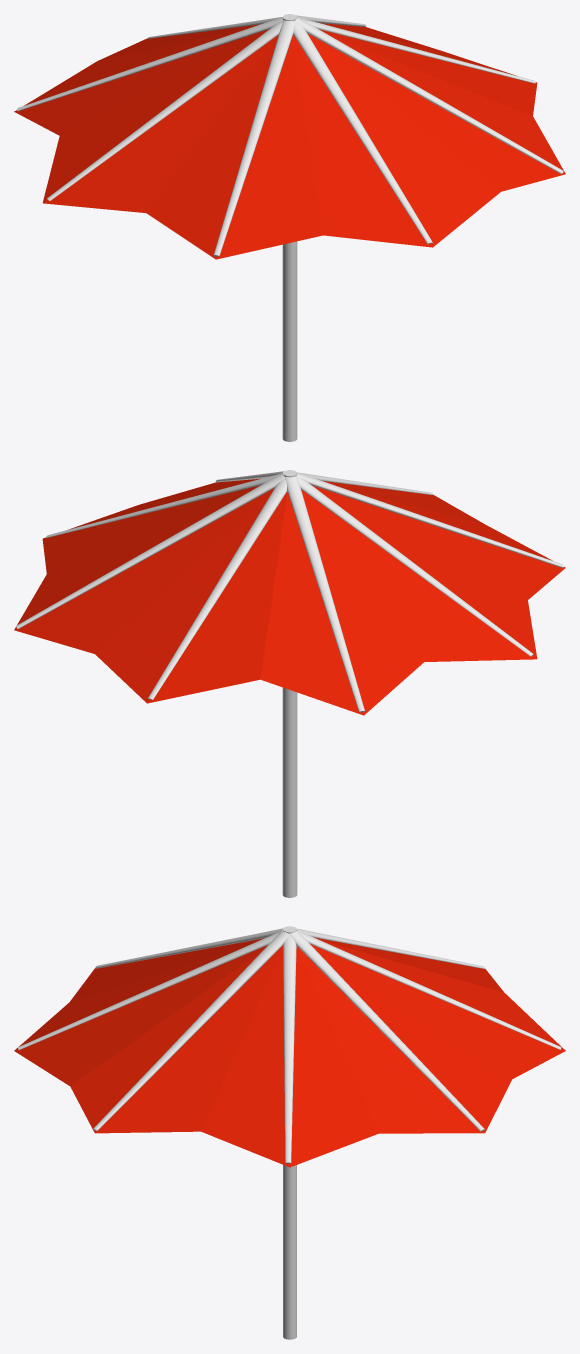
File: umbrella.fbx
The picture shows the model from 3 angles, top to bottom: view 1: azimuth 30°, elevation 25°; view 2: azimuth 150°, elevation 25°; view 3: azimuth 270°, elevation 25°; orthographic projection. The views are drawn at different scales.
Visible parts, largest first — view 1: Cone, Cylinder.002, Cylinder; view 2: Cone, Cylinder.002, Cylinder; view 3: Cone, Cylinder.002, Cylinder.
Boxes of the visible parts, box(x1,y1,x2,y2) form: Cone: box(14, 23, 565, 259); Cylinder.002: box(17, 14, 563, 256); Cylinder: box(282, 241, 297, 441); Cone: box(14, 478, 565, 715); Cylinder.002: box(16, 470, 563, 712); Cylinder: box(282, 687, 297, 897); Cone: box(14, 937, 565, 1167); Cylinder.002: box(18, 926, 561, 1163); Cylinder: box(283, 1165, 296, 1339).
Size of the model in its own units: 2253 by 1835 by 2253.
